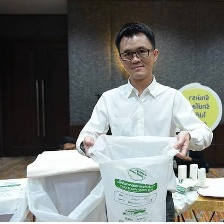plastic_bag: (87, 129, 183, 222), (14, 154, 110, 223), (0, 170, 32, 222), (197, 165, 208, 191), (175, 163, 188, 181), (187, 162, 199, 181)
